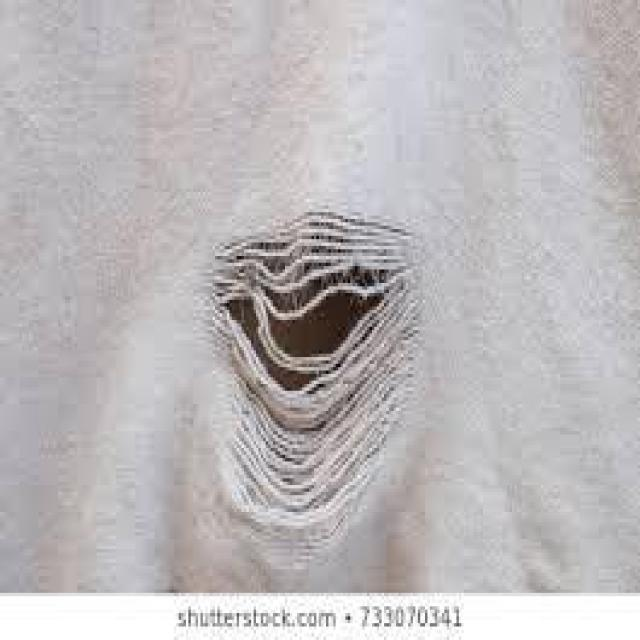cut: (203, 205, 423, 536)
